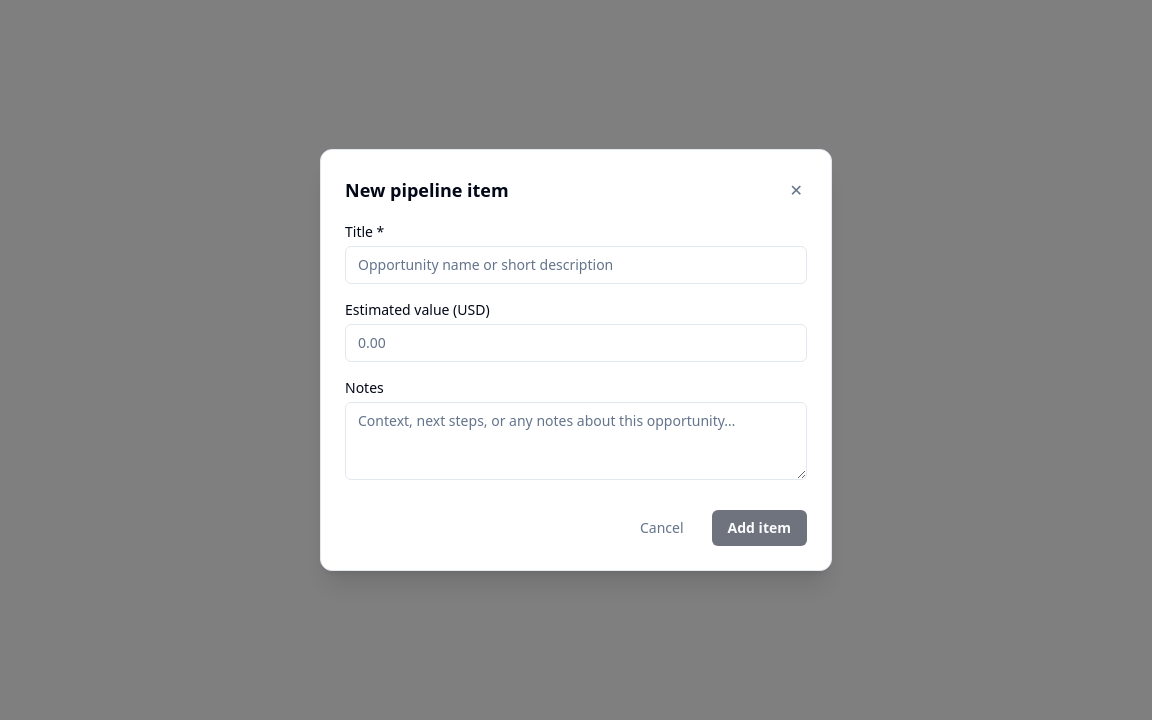
Scenario: NewItemModal — form validation › submit button enables when title is filled
The width and height of the screenshot is (1152, 720).
Type "City Hall contract" into the field labelled "Title *". click: (576, 265)
box: [345,246,807,284]
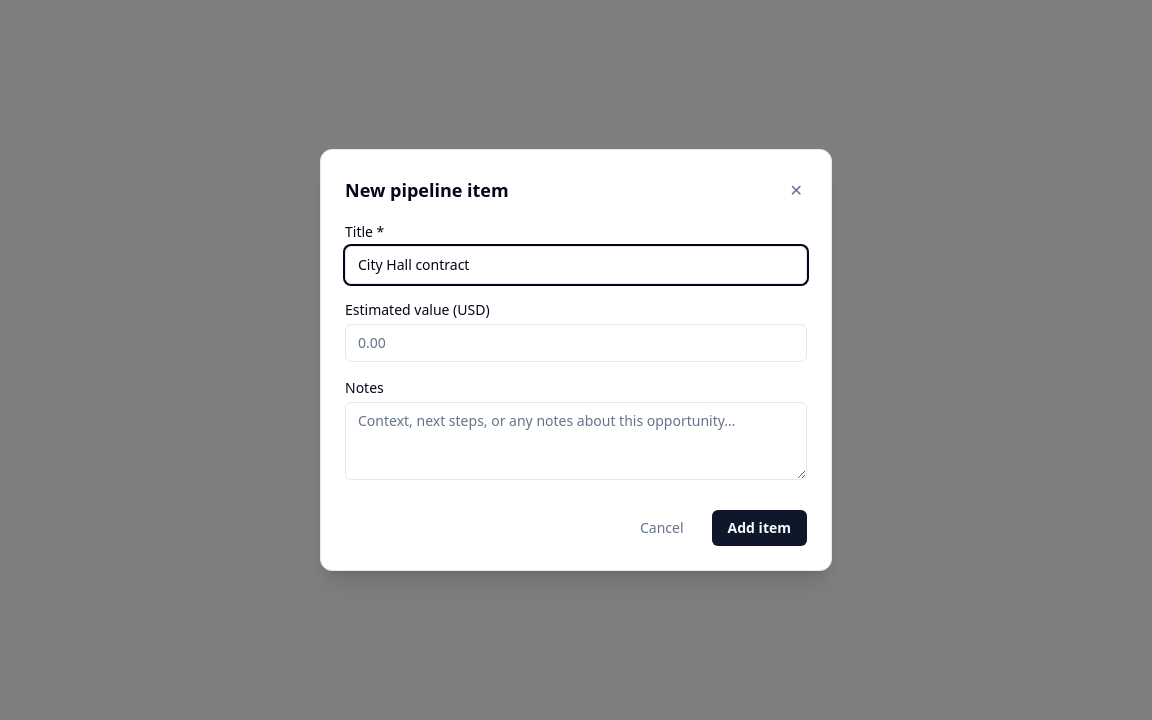
Now the button "Add item" is enabled, box [712,510,807,546]
